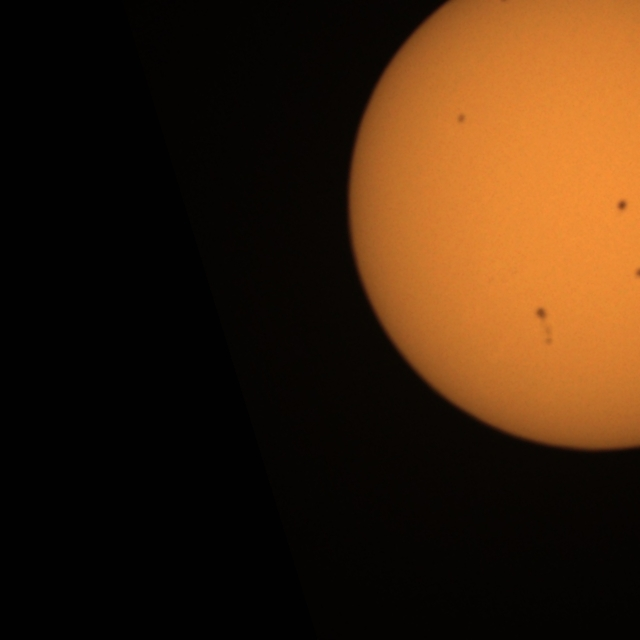sunspot: (534, 306, 550, 322), (615, 198, 629, 213), (455, 112, 468, 126), (633, 265, 640, 281)
